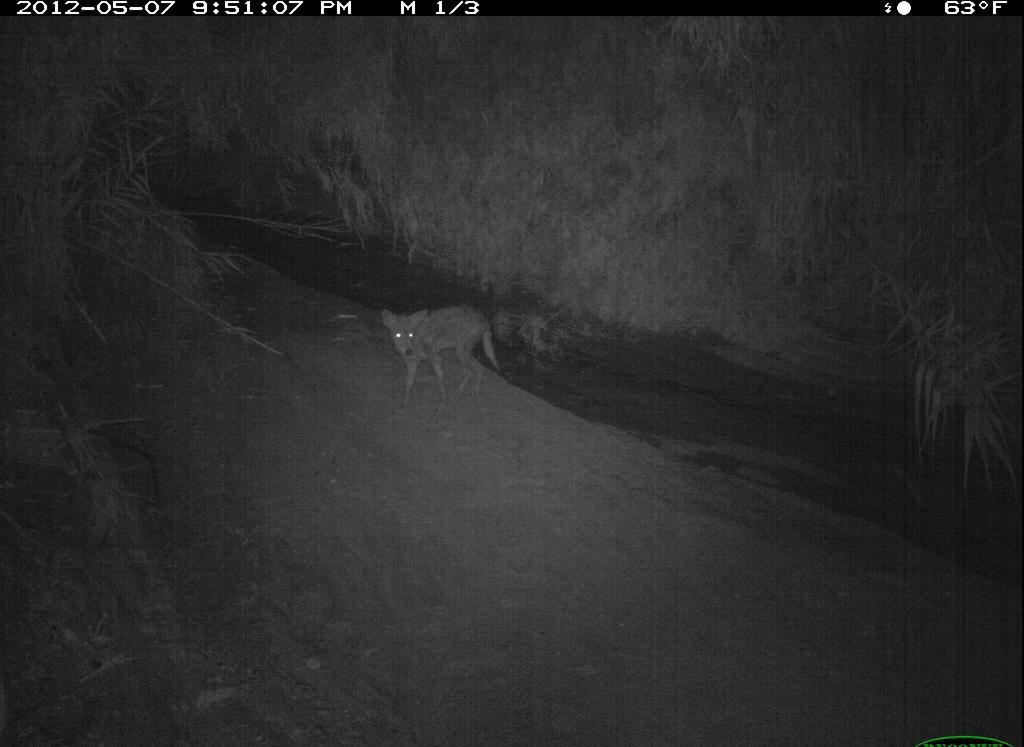coyote: (753, 602, 1004, 747)
